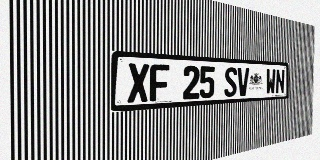2: (183, 65, 199, 100)
5: (200, 66, 215, 99)
F: (150, 64, 169, 101)
N: (275, 69, 285, 94)
S: (224, 67, 237, 97)
V: (237, 67, 249, 96)
W: (266, 69, 276, 95)
X: (127, 63, 149, 103)
